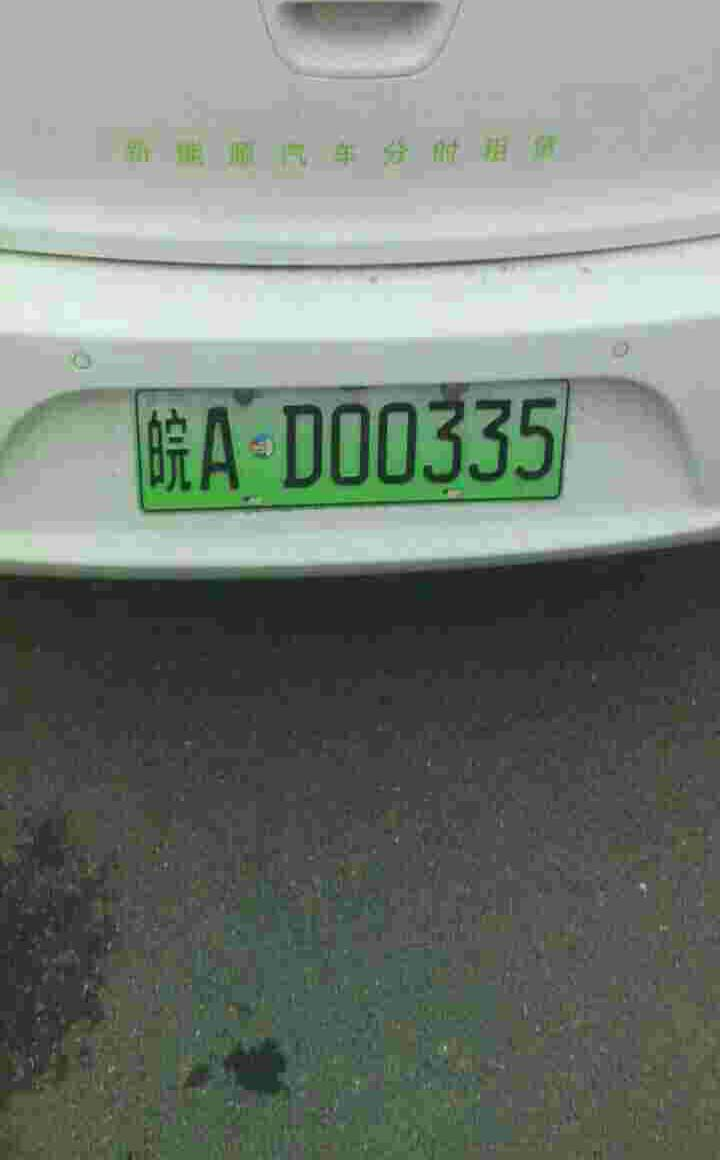car: (123, 379, 572, 507)
